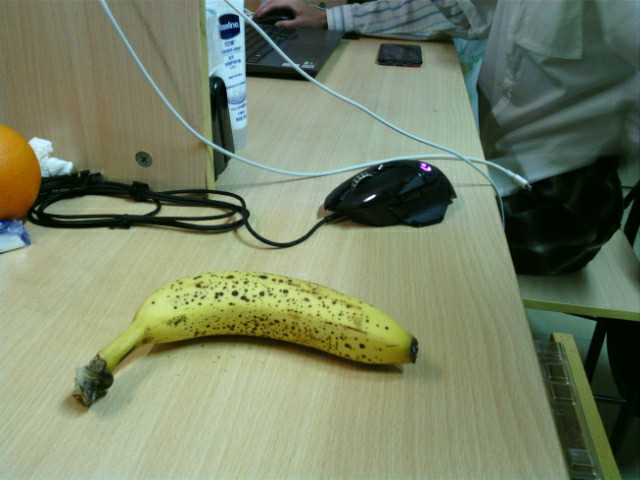normal_banana: (75, 270, 418, 408)
normal_orange: (2, 125, 42, 220)
